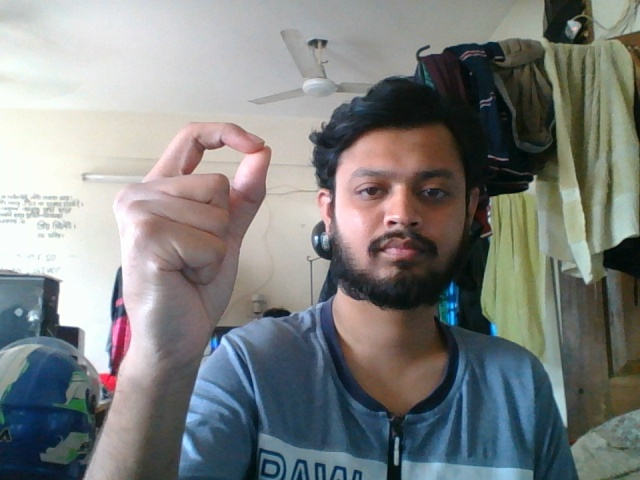gha: (109, 117, 276, 436)
